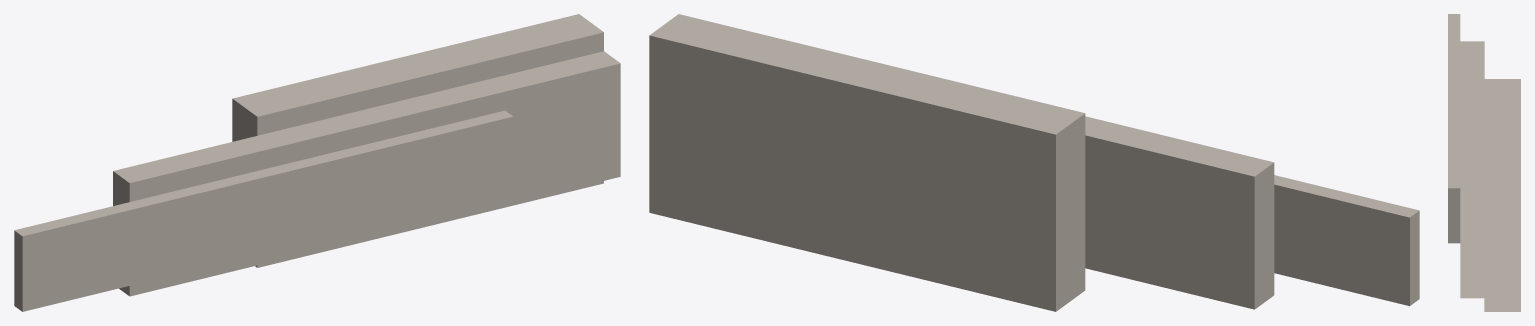
File: hands.glb
3 views of the same model, side by side, from view 1: azimuth 30°, elevation 25°; view 2: azimuth 150°, elevation 25°; view 3: azimuth 270°, elevation 25° (orthographic). The views are drawn at different scales.
Parts seen in each view (by area): view 1: seconds, minutes, hours; view 2: hours, minutes, seconds; view 3: hours, minutes, seconds.
Boxes of the visible parts, x1=… form: seconds: x1=14, y1=110, x2=513, y2=311; minutes: x1=113, y1=51, x2=620, y2=296; hours: x1=232, y1=14, x2=603, y2=267; hours: x1=649, y1=14, x2=1085, y2=311; minutes: x1=1085, y1=116, x2=1274, y2=309; seconds: x1=1274, y1=175, x2=1419, y2=306; hours: x1=1484, y1=79, x2=1520, y2=311; minutes: x1=1460, y1=41, x2=1484, y2=298; seconds: x1=1448, y1=14, x2=1460, y2=243.
Size of the model in its own units: 0.84 by 0.2 by 0.12.
1 material, 1 textured.
